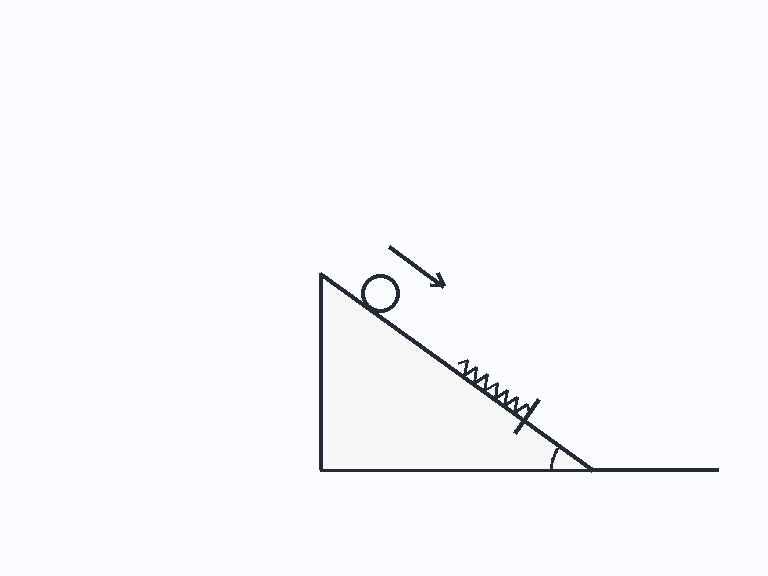ball: (359, 272, 401, 314)
ramp: (318, 271, 593, 472)
spring: (456, 358, 531, 415)
